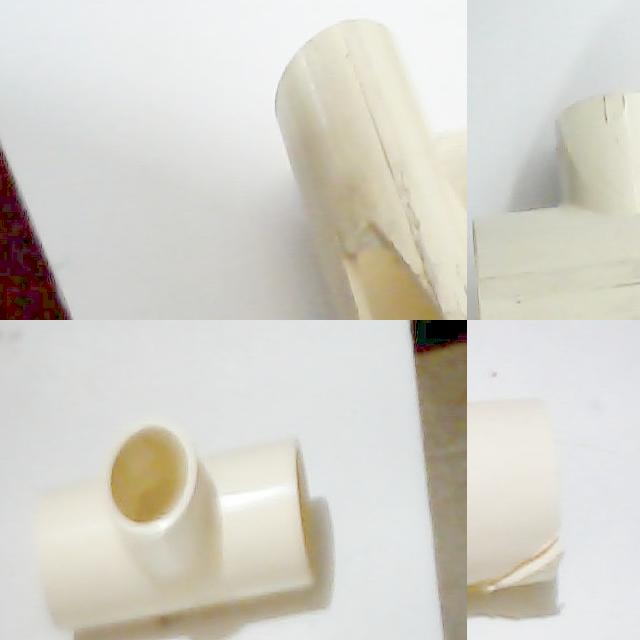Defective: (343, 210, 461, 320), (467, 516, 575, 607)
T Joint: (35, 420, 330, 629), (273, 19, 467, 320), (472, 92, 640, 320), (467, 399, 561, 591)
